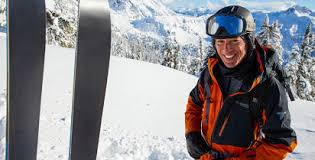skis: (3, 2, 112, 160)
